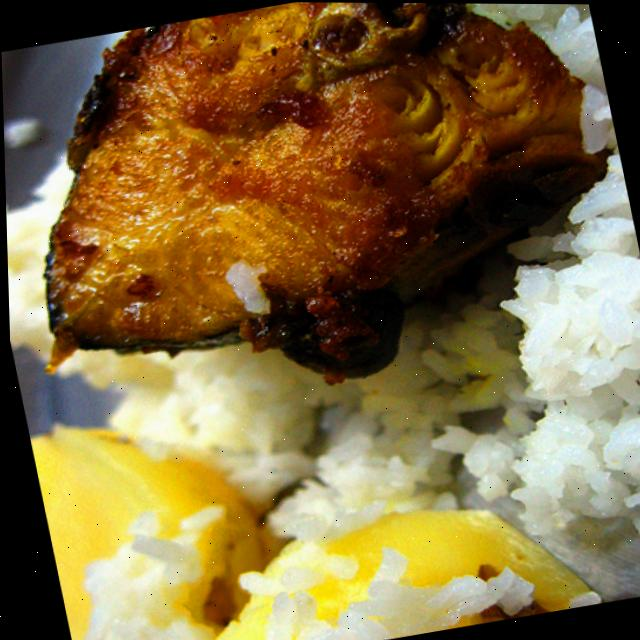炸货点心: (0, 0, 613, 410)
熟制海鲜: (0, 0, 613, 410)
